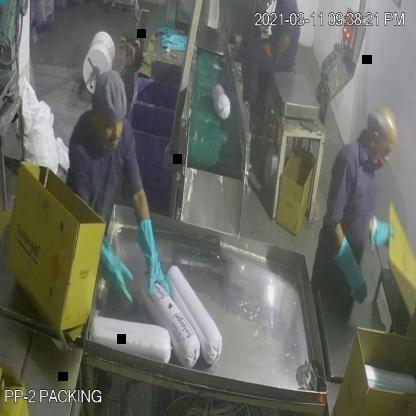glove: (331, 227, 375, 310), (135, 210, 176, 292)
no_glove: (261, 29, 296, 60)
